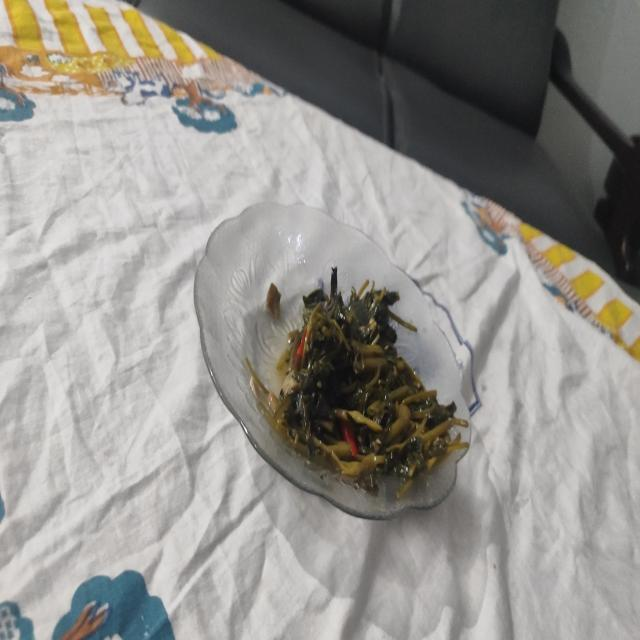tumis_kangkung: (275, 268, 469, 501)
